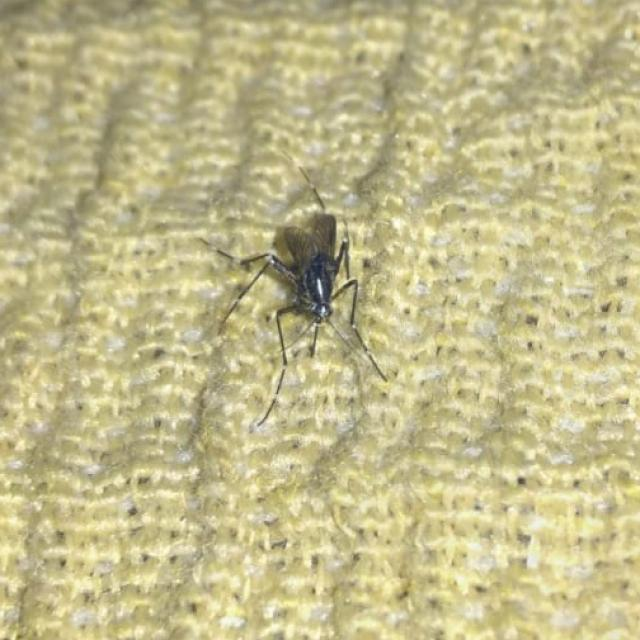albopictus: (178, 142, 406, 431)
